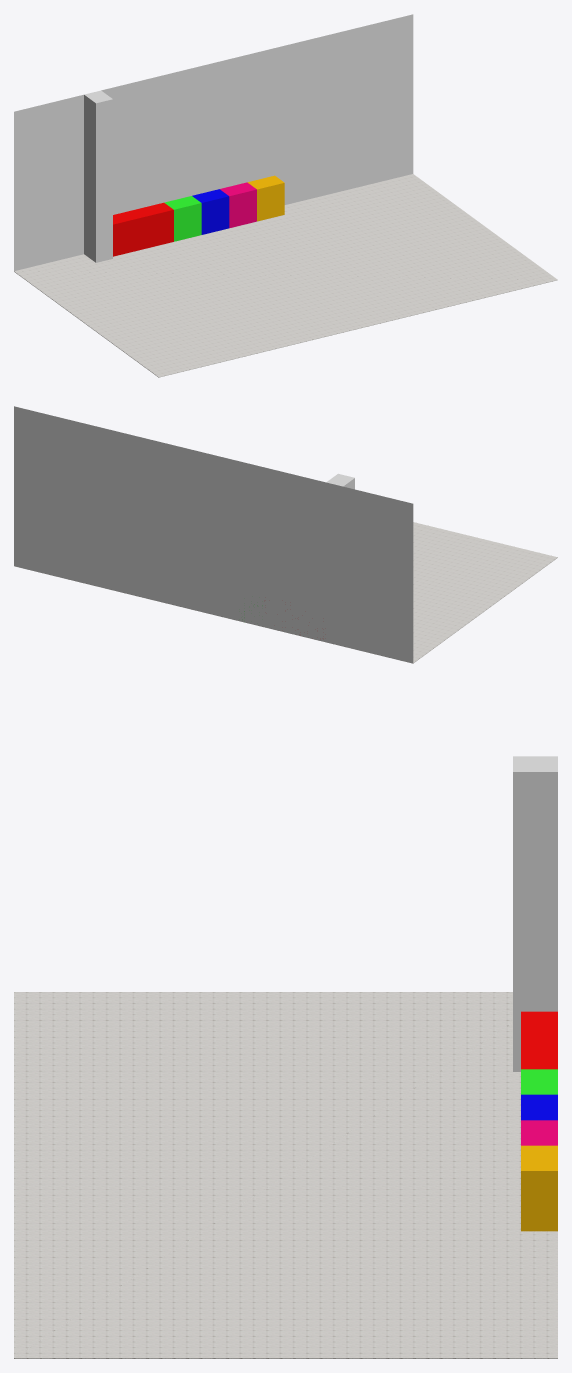
File: kabinet.glb
3 views of the same model, one above another, from view 1: azimuth 30°, elevation 25°; view 2: azimuth 150°, elevation 25°; view 3: azimuth 270°, elevation 25° (orthographic). The views are drawn at different scales.
Parts seen in each view (by area): view 1: G-Object, G-Object.001, G-Object.002, G-Object.003, G-Object.005, G-Object.006, G-Object.007, G-Object.004; view 2: G-Object.001, G-Object, G-Object.002; view 3: G-Object, G-Object.002, G-Object.007, G-Object.003, G-Object.005, G-Object.004, G-Object.006.
Part boxes in pixels (<box>): G-Object: <box>14,174,557,377</box>; G-Object.001: <box>14,14,413,271</box>; G-Object.002: <box>84,90,112,262</box>; G-Object.003: <box>113,202,173,256</box>; G-Object.005: <box>192,189,229,234</box>; G-Object.006: <box>220,182,256,228</box>; G-Object.007: <box>247,175,284,221</box>; G-Object.004: <box>164,196,201,241</box>; G-Object.001: <box>14,406,413,663</box>; G-Object: <box>20,522,557,663</box>; G-Object.002: <box>326,473,354,645</box>; G-Object: <box>14,992,557,1358</box>; G-Object.002: <box>513,756,557,1071</box>; G-Object.007: <box>521,1145,557,1231</box>; G-Object.003: <box>521,1011,557,1069</box>; G-Object.005: <box>521,1094,557,1120</box>; G-Object.004: <box>521,1069,557,1094</box>; G-Object.006: <box>521,1120,557,1145</box>.
Bounding box in the file's own units: 19.78 × 7.57 × 12.42.
Materials: 7 (1 with a texture image).
